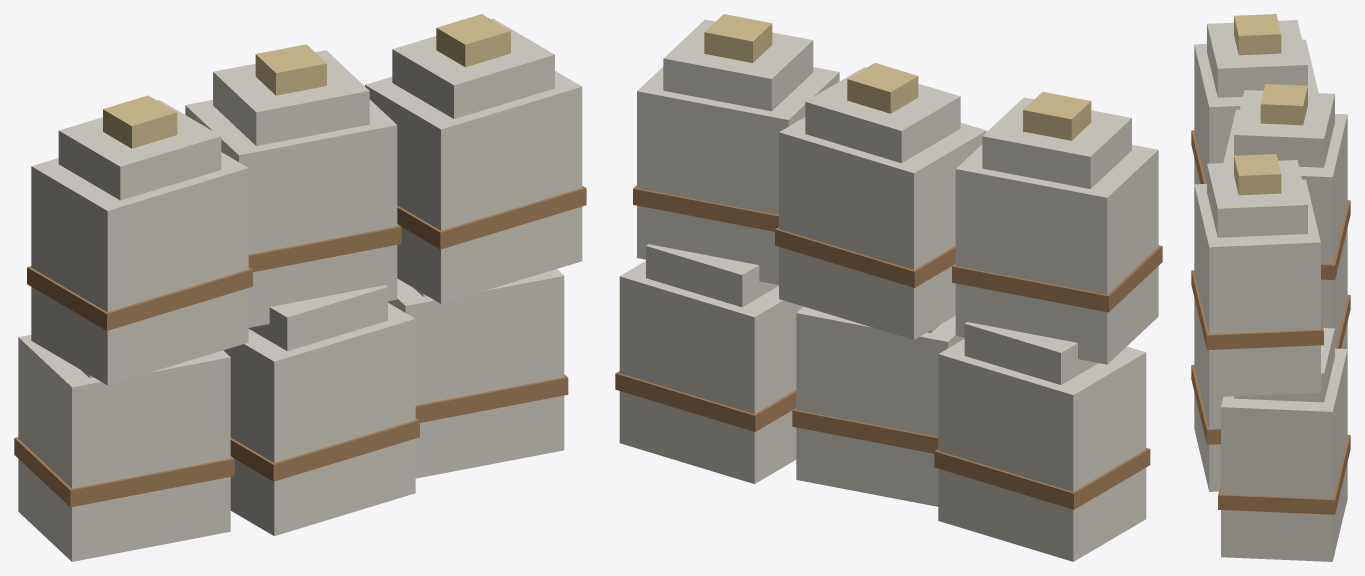
The model's file is feed-sack-stack.glb.
3 views of the same model, side by side, from view 1: azimuth 30°, elevation 25°; view 2: azimuth 150°, elevation 25°; view 3: azimuth 270°, elevation 25° (orthographic). The views are drawn at different scales.
Parts seen in each view (by area): view 1: feed-sack-stack; view 2: feed-sack-stack; view 3: feed-sack-stack.
Boxes of the visible parts, box(x1,y1,x2,y2) form: feed-sack-stack: box(14, 14, 586, 561); feed-sack-stack: box(615, 14, 1162, 561); feed-sack-stack: box(1191, 14, 1350, 561).
Size of the model in its own units: 1.86 by 1.5 by 0.5957.
